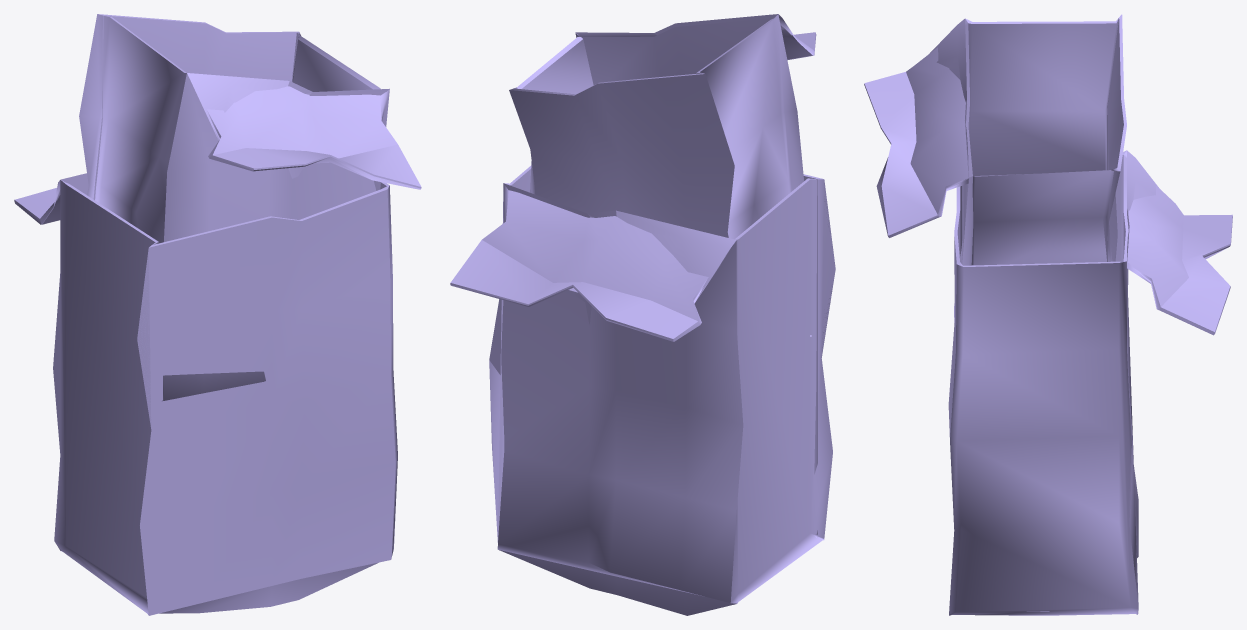
File: SusActivity.fbx
3 renders of one model, left to right at view 1: azimuth 30°, elevation 25°; view 2: azimuth 150°, elevation 25°; view 3: azimuth 270°, elevation 25°, orthographic. The views are drawn at different scales.
Visible parts, largest first — view 1: SusActivity; view 2: SusActivity; view 3: SusActivity.
Part boxes in pixels (x1,y1,x2,y2): SusActivity: [14, 14, 421, 615]; SusActivity: [450, 14, 835, 615]; SusActivity: [864, 14, 1232, 615].
Bounding box in the file's own units: 286 × 577 × 362.
